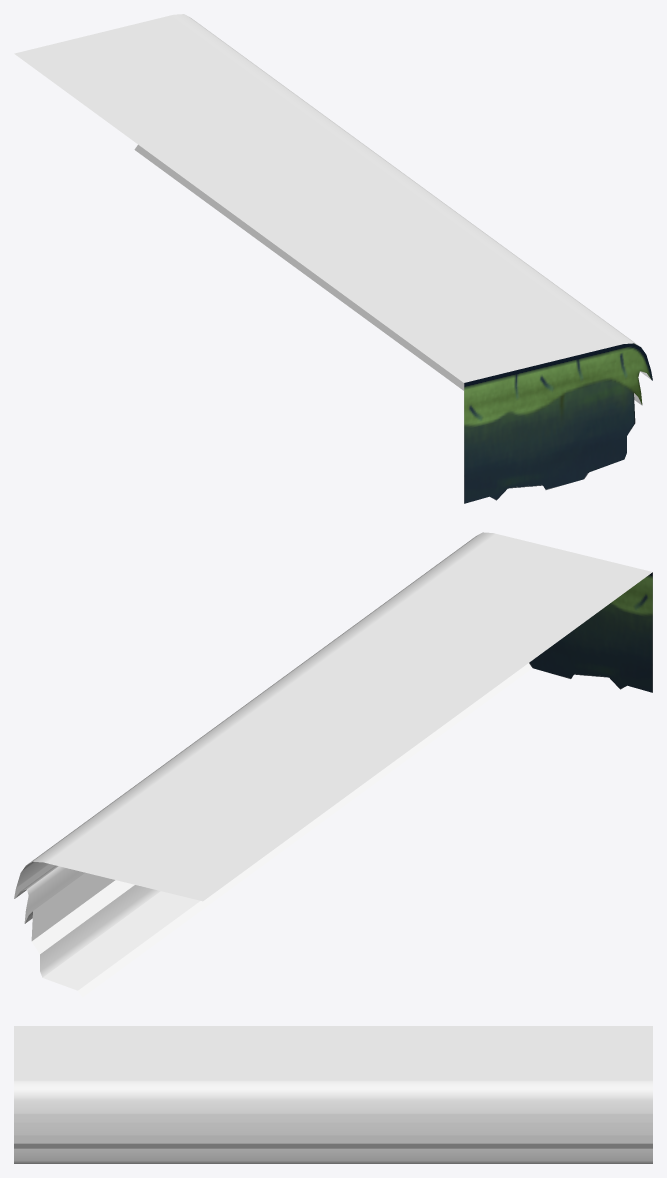
Rendered from Plataforma_01_TipRight_01.fbx.
3 views of the same model, one above another, from view 1: azimuth 30°, elevation 25°; view 2: azimuth 150°, elevation 25°; view 3: azimuth 270°, elevation 25° (orthographic). The views are drawn at different scales.
Parts seen in each view (by area): view 1: Plataforma_TipRight_01; view 2: Plataforma_TipRight_01; view 3: Plataforma_TipRight_01.
Part boxes in pixels (x1,y1,x2,y2): Plataforma_TipRight_01: (14, 14, 652, 503); Plataforma_TipRight_01: (14, 532, 652, 997); Plataforma_TipRight_01: (14, 1026, 652, 1163).
Size of the model in its own units: 3 by 1.93 by 12.37.
